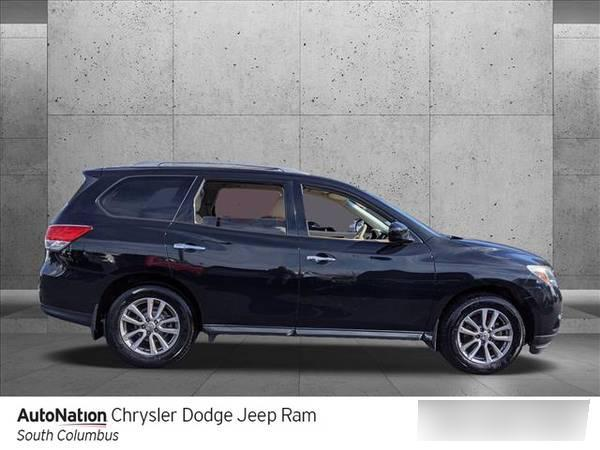Front_Bumper: (529, 279, 563, 350)
Front_Fender: (427, 263, 543, 336)
Front_Right_Door: (295, 239, 432, 333)
Front_Right_Window: (294, 180, 424, 242)
Hood: (424, 235, 545, 266)
Rear_Bumper: (40, 244, 114, 330)
Rear_Fender: (51, 175, 196, 277)
Rear_Right_Door: (162, 223, 295, 328)
Rear_Right_Window: (172, 176, 295, 237)
Right_Headlight: (528, 263, 560, 287)
Roof: (53, 164, 436, 240)
Wheel: (101, 280, 194, 360), (441, 293, 526, 373)
